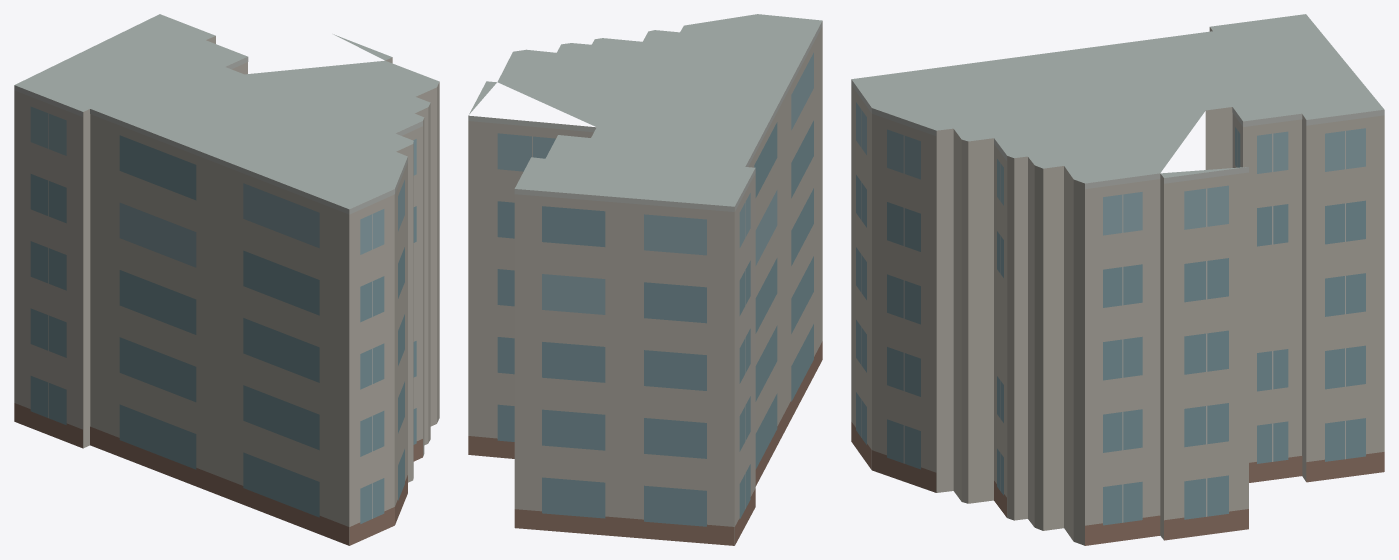
The model's file is survey-upis-32623899.glb.
3 views of the same model, side by side, from view 1: azimuth 30°, elevation 25°; view 2: azimuth 150°, elevation 25°; view 3: azimuth 270°, elevation 25° (orthographic). The views are drawn at different scales.
Parts seen in each view (by area): view 1: survey-upis-32623899.tmp; view 2: survey-upis-32623899.tmp; view 3: survey-upis-32623899.tmp.
Part boxes in pixels (bbox=[...]): survey-upis-32623899.tmp: bbox=[14, 14, 439, 545]; survey-upis-32623899.tmp: bbox=[468, 14, 822, 545]; survey-upis-32623899.tmp: bbox=[851, 14, 1384, 545].
Size of the model in its own units: 15.66 by 15.6 by 20.82.
